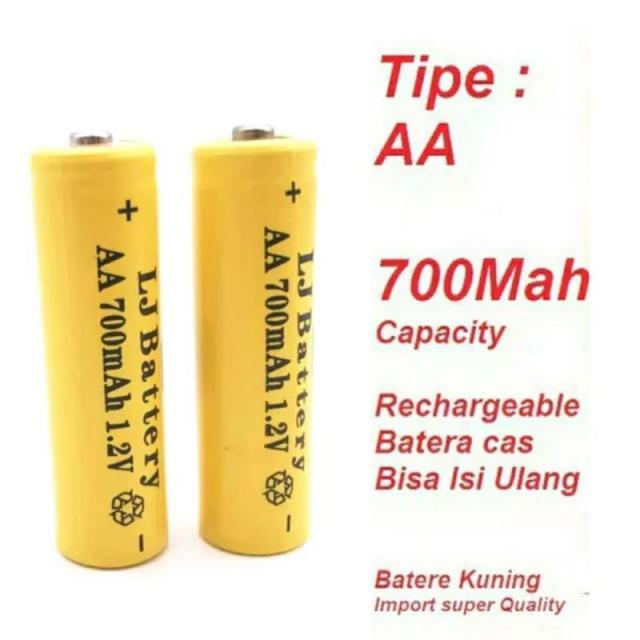hazardous waste: (17, 106, 185, 598), (190, 95, 319, 575)
